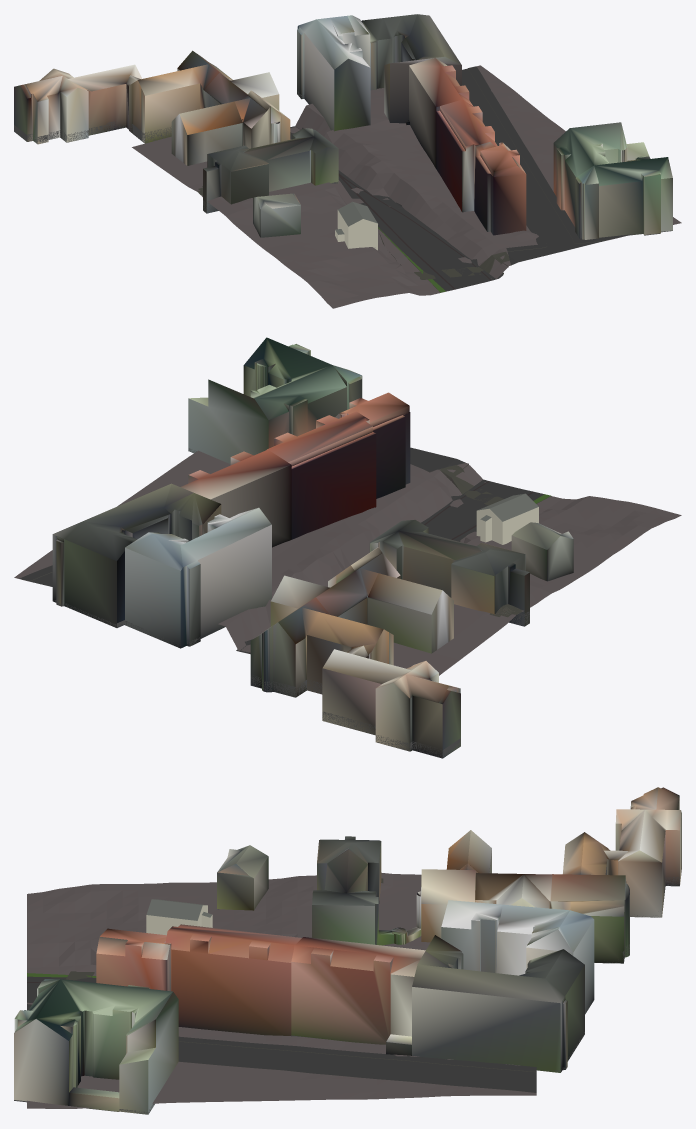
3 renders of one model, top to bottom at view 1: azimuth 30°, elevation 25°; view 2: azimuth 150°, elevation 25°; view 3: azimuth 270°, elevation 25°, orthographic. The views are drawn at different scales.
Visible parts, largest first — view 1: c_m13_p02; view 2: c_m13_p02; view 3: c_m13_p02.
Part boxes in pixels (x1=…): c_m13_p02: x1=14, y1=14, x2=681, y2=308; c_m13_p02: x1=14, y1=337, x2=681, y2=758; c_m13_p02: x1=14, y1=787, x2=681, y2=1114.
Size of the model in its own units: 154 by 33.16 by 168.
